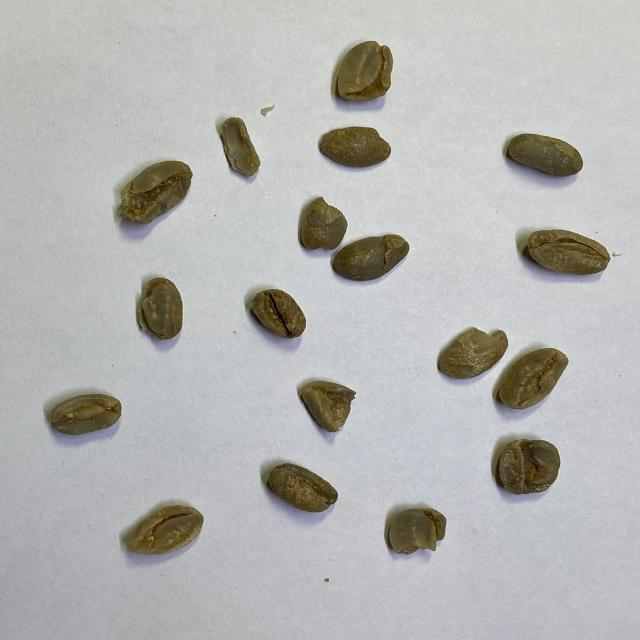bad: (116, 158, 195, 226), (497, 346, 570, 411), (124, 504, 205, 556), (330, 233, 411, 284), (334, 40, 396, 106), (528, 228, 612, 276), (438, 326, 509, 380), (136, 276, 187, 342), (299, 379, 358, 434), (386, 506, 448, 556), (49, 392, 122, 434), (298, 196, 348, 252), (218, 116, 261, 180)
good: (497, 438, 562, 496), (267, 463, 339, 514), (507, 132, 584, 178), (318, 126, 392, 170), (252, 289, 307, 339)
